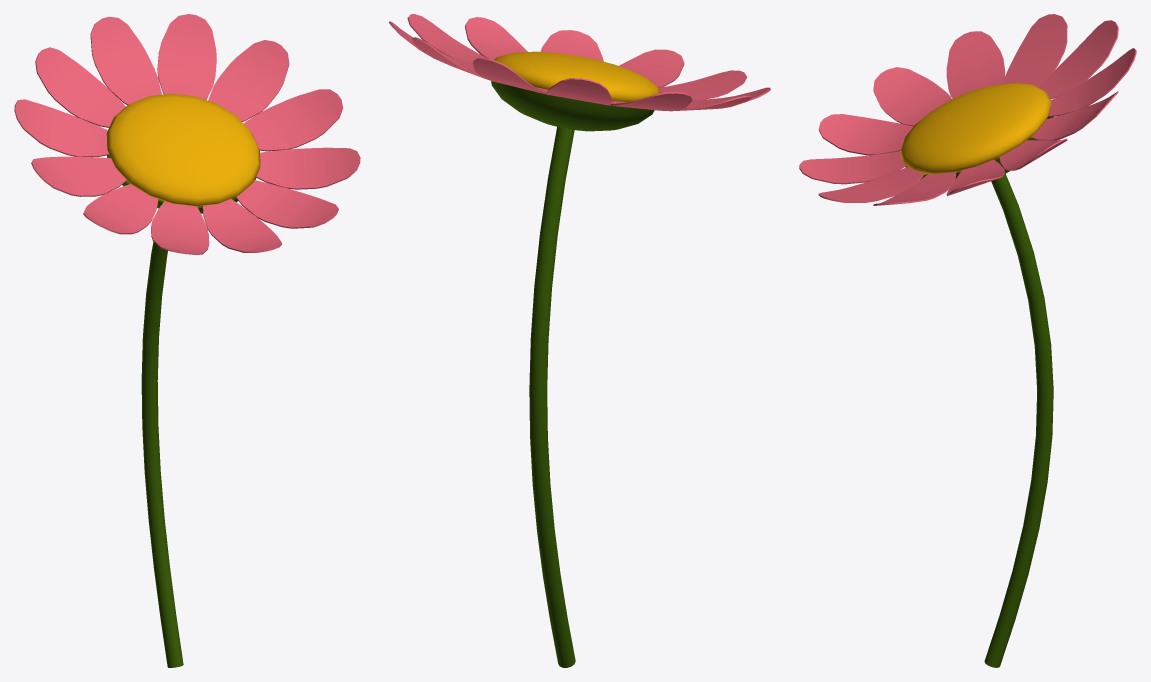
Rendered from flauer.fbx.
The picture shows the model from 3 angles, left to right: view 1: azimuth 30°, elevation 25°; view 2: azimuth 150°, elevation 25°; view 3: azimuth 270°, elevation 25°; orthographic projection. The views are drawn at different scales.
Parts seen in each view (by area): view 1: Сфера.001, ТраекторияNurbs, Сфера.006, Сфера.005, Сфера.007, Сфера.004, Сфера.008, Сфера.003, Сфера.009, Сфера.002, Сфера.010, Сфера (+2 smaller); view 2: ТраекторияNurbs, Сфера.001, Сфера.013, Сфера.003, Сфера, Сфера.012, Сфера.004, Сфера.002, Сфера.008, Сфера.007, Сфера.009; view 3: Сфера.001, ТраекторияNurbs, Сфера.010, Сфера.011, Сфера.009, Сфера.012, Сфера.008, Сфера, Сфера.007, Сфера.002, Сфера.006, Сфера.003 (+2 smaller).
Part boxes in pixels (x1,y1,x2,y2): Сфера.001: [106, 93, 260, 206]; ТраекторияNurbs: [141, 242, 183, 667]; Сфера.006: [157, 14, 216, 99]; Сфера.005: [208, 40, 289, 121]; Сфера.007: [90, 16, 161, 105]; Сфера.004: [243, 89, 342, 151]; Сфера.008: [35, 47, 125, 127]; Сфера.003: [256, 147, 360, 189]; Сфера.009: [14, 99, 109, 157]; Сфера.002: [235, 180, 338, 228]; Сфера.010: [31, 156, 126, 196]; Сфера: [202, 199, 281, 252]; ТраекторияNurbs: [529, 127, 575, 667]; Сфера.001: [494, 51, 660, 101]; Сфера.013: [491, 81, 654, 131]; Сфера.003: [465, 17, 527, 59]; Сфера: [619, 49, 684, 87]; Сфера.012: [658, 70, 746, 99]; Сфера.004: [407, 14, 487, 63]; Сфера.002: [540, 30, 603, 61]; Сфера.008: [546, 78, 612, 105]; Сфера.007: [473, 58, 547, 94]; Сфера.009: [609, 92, 692, 110]; Сфера.001: [900, 82, 1051, 174]; ТраекторияNurbs: [984, 174, 1053, 667]; Сфера.010: [946, 31, 1005, 98]; Сфера.011: [873, 67, 951, 126]; Сфера.009: [1002, 14, 1067, 86]; Сфера.012: [818, 114, 913, 155]; Сфера.008: [1037, 20, 1118, 99]; Сфера: [799, 151, 906, 184]; Сфера.007: [1048, 48, 1136, 117]; Сфера.002: [818, 166, 925, 202]; Сфера.006: [1030, 91, 1118, 140]; Сфера.003: [873, 172, 956, 205].
Size of the model in its own units: 261 by 491 by 244.
